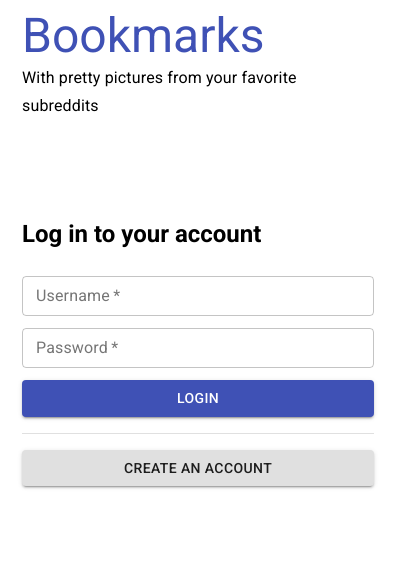
Test: Login page displays correctly › Clicking register, then clicking login displays correct form
Click the button "Create an Account" at (198, 469), box left=22, top=450, right=374, bottom=487
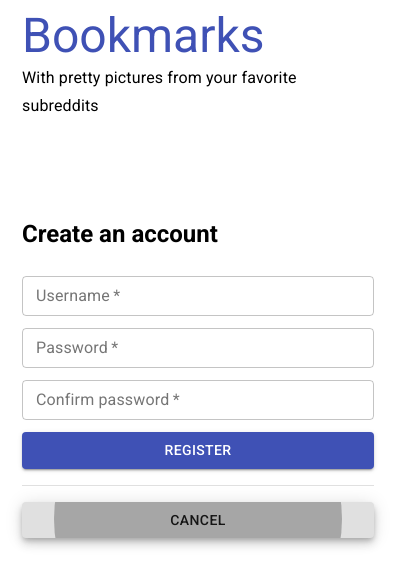
Click the button "Cancel" at (198, 521), box left=22, top=502, right=374, bottom=539
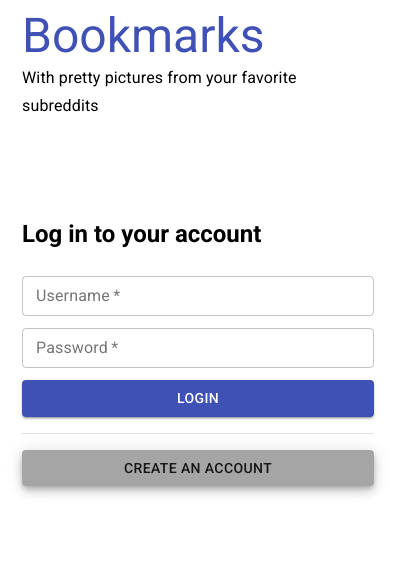
Expected: the button "Login" is shown, left=22, top=380, right=374, bottom=416
Expected: the text "Log in to your account" is shown, left=22, top=220, right=261, bottom=248
